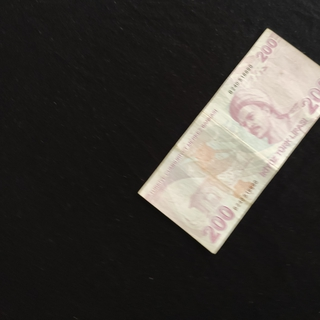200TLBack: (136, 27, 320, 254)
